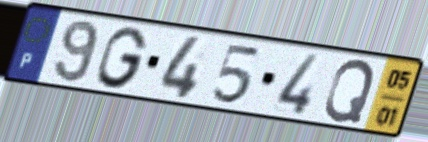4: (273, 51, 319, 117), (158, 34, 201, 101)
5: (210, 41, 265, 105)
9: (50, 17, 101, 84)
G: (95, 24, 151, 90)
Q: (321, 58, 377, 126)
